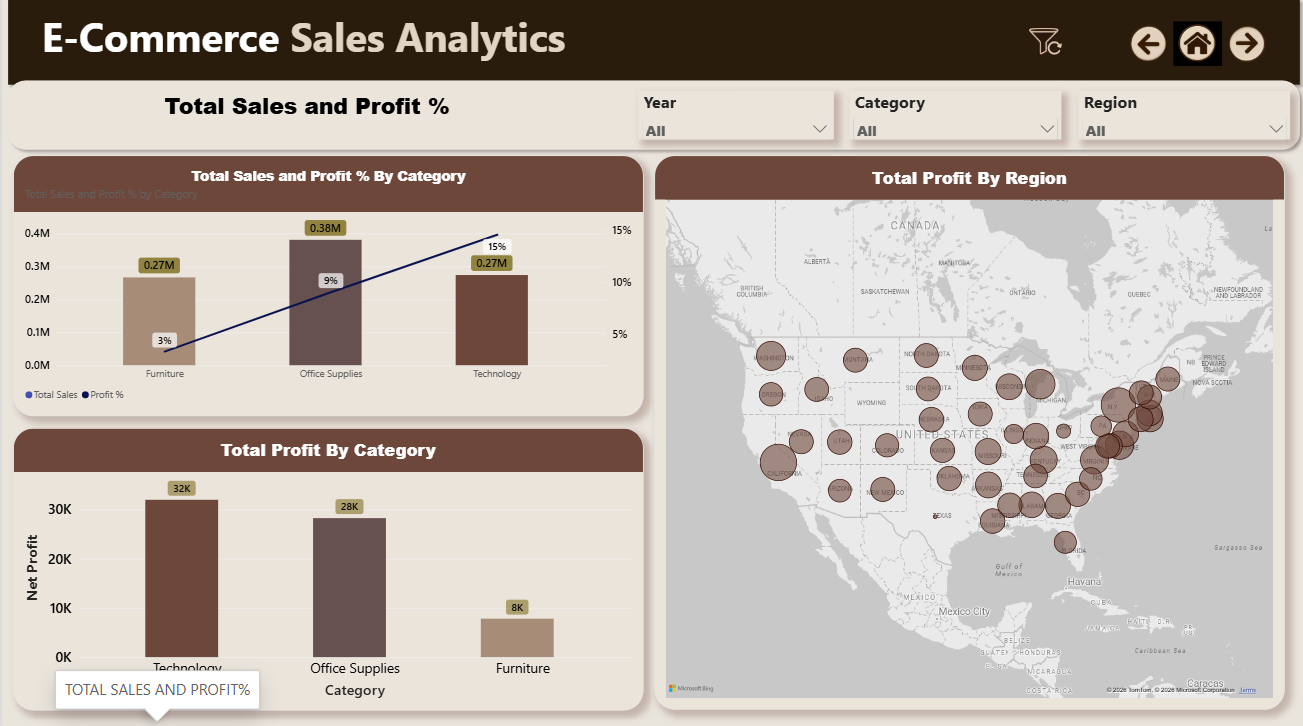

The page's visual inventory and layout, read from the dashboard file:
{"tool":"powerbi","page":{"name":"TOTAL SALES AND PROFIT%","canvas":[1920,1080],"ordinal":1},"visuals":[{"type":"shape","box":[0,0,1920,144],"z":0},{"type":"textbox","box":[0,24,888,120],"z":1000},{"type":"lineStackedColumnComboChart","title":"Total Sales and Profit % By Category","fields":{"Category":["Product_Data.Category"],"Y":["All_Measures.Total Sales"],"Y2":["All_Measures.Profit %"]},"box":[16,240,928,384],"z":2000},{"type":"shape","box":[0,120,1920,120],"z":3000},{"type":"slicer","fields":{"Values":["Region_Data.Region"]},"box":[1584,144,312,72],"z":4000},{"type":"slicer","fields":{"Values":["Calender.Year"]},"box":[936,144,288,72],"z":5000},{"type":"slicer","fields":{"Values":["Product_Data.Category"]},"box":[1248,144,312,72],"z":6000},{"type":"textbox","box":[240,144,504,72],"z":7000},{"type":"clusteredColumnChart","title":"Total Profit By Category","fields":{"Category":["Product_Data.Category"],"Y":["All_Measures.Net Profit"]},"box":[16,640,928,416],"z":8000},{"type":"map","title":"Total Profit By Region","fields":{"Category":["Region_Data.State"],"Size":["All_Measures.Net Profit"]},"box":[960,240,928,816],"z":9000},{"type":"image","box":[1488,32,96,80],"z":10000},{"type":"image","box":[1796.4,38,72,72],"z":11000},{"type":"image","box":[1652.4,38,72,72],"z":12000},{"type":"image","box":[1724.4,38,72,72],"z":13000}]}

Visuals, with their boxes in screenshot pixels (x1, y1, x2, y2), scaled from the page's 1920x1080 canvas onto the 1303x726 screenshot:
shape: [0, 0, 1302, 97]
textbox: [0, 16, 603, 97]
"Total Sales and Profit % By Category" lineStackedColumnComboChart: [11, 161, 641, 419]
shape: [0, 81, 1302, 161]
slicer - Region_Data.Region: [1075, 97, 1287, 145]
slicer - Calender.Year: [635, 97, 831, 145]
slicer - Product_Data.Category: [847, 97, 1059, 145]
textbox: [163, 97, 505, 145]
"Total Profit By Category" clusteredColumnChart: [11, 430, 641, 710]
"Total Profit By Region" map: [652, 161, 1281, 710]
image: [1010, 22, 1075, 75]
image: [1219, 26, 1268, 74]
image: [1121, 26, 1170, 74]
image: [1170, 26, 1219, 74]
